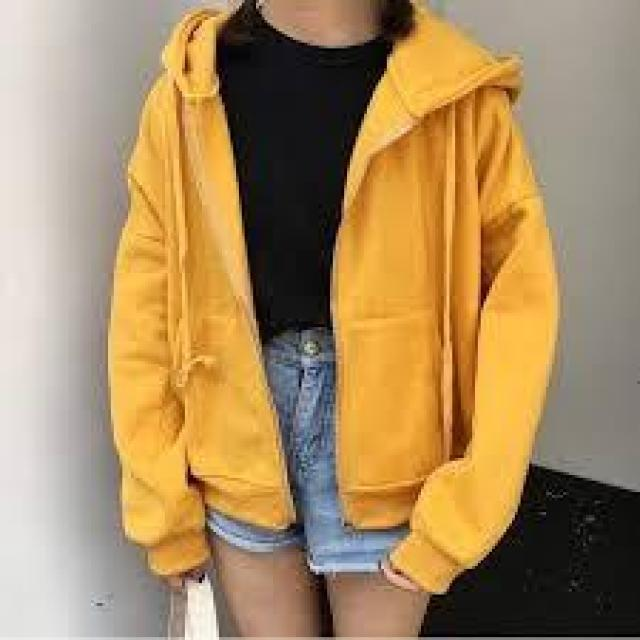sweater: (108, 13, 543, 579)
